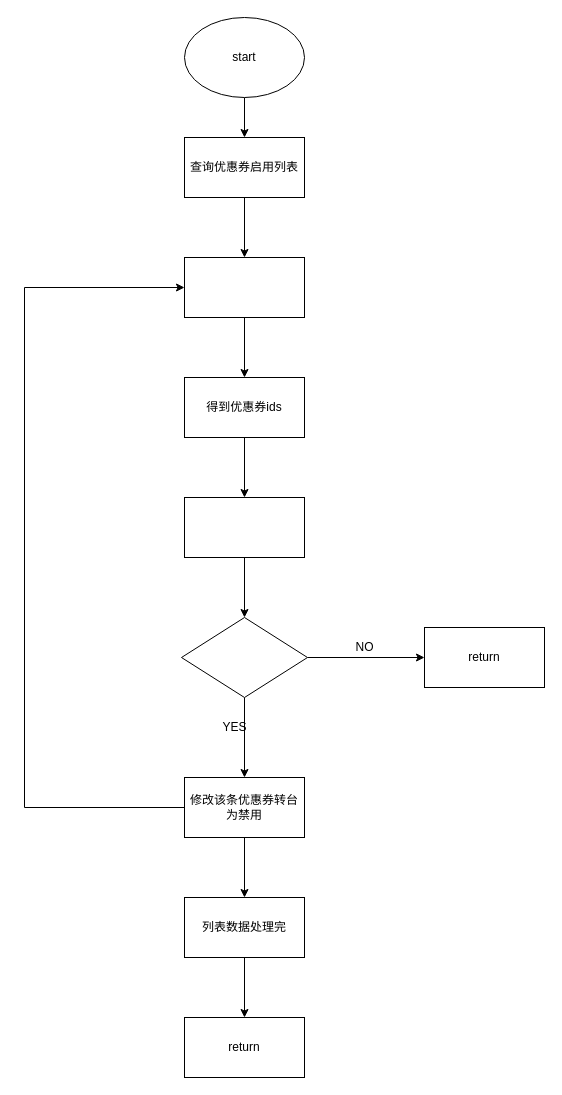
Image size: 562x1095. Some labels were removed from this diagram. Here are the shapes that lost their labels. From the top down, the box of each, then its label:
(184, 256, 304, 318): 循环遍历优惠券
(184, 496, 304, 558): 查询中台优惠券接口
(180, 616, 308, 698): 判断total数量=0
